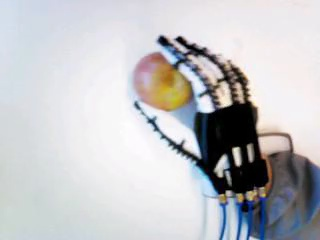apple: (134, 50, 190, 110)
hand: (133, 35, 267, 202)
